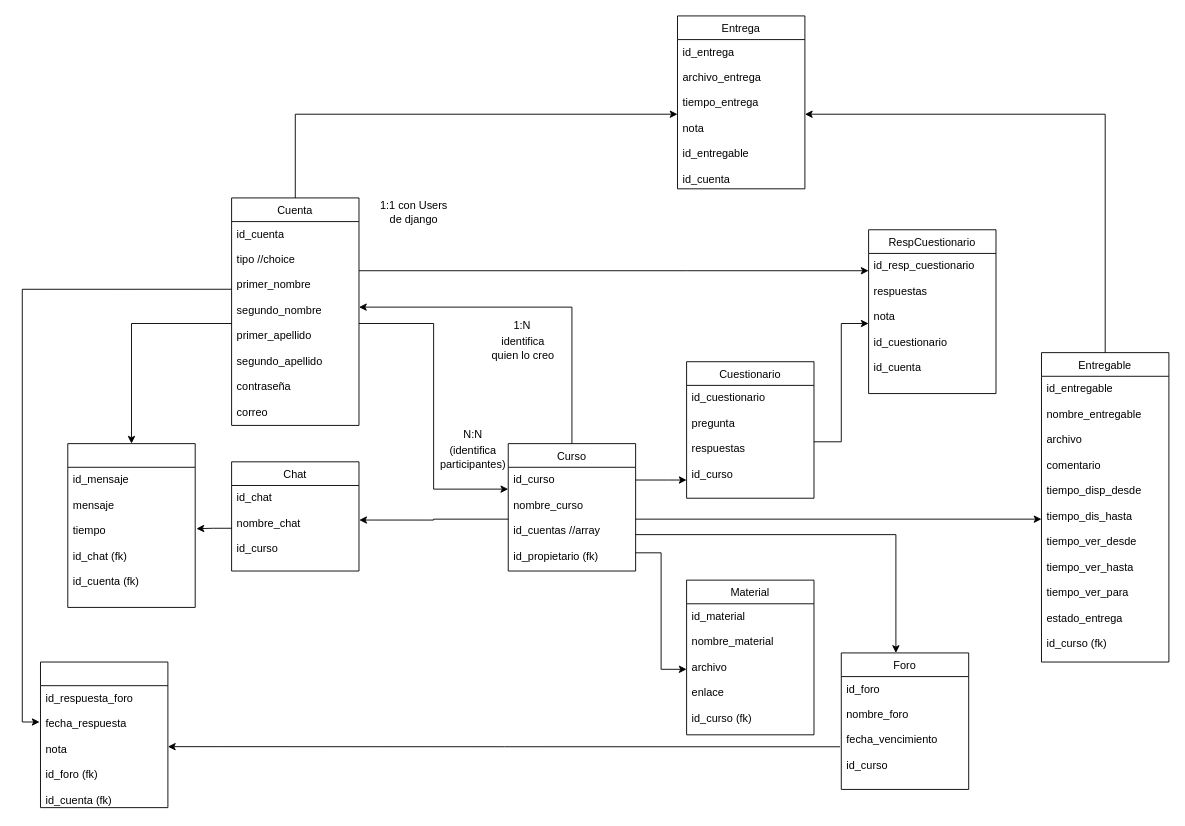
Some shapes in this 1185 by 826 pixel diagram are drawn without their labels. Each missing label, with the box of its shape:
Mensajes: (67, 443, 195, 607)
RespuestasForo: (40, 661, 168, 808)
